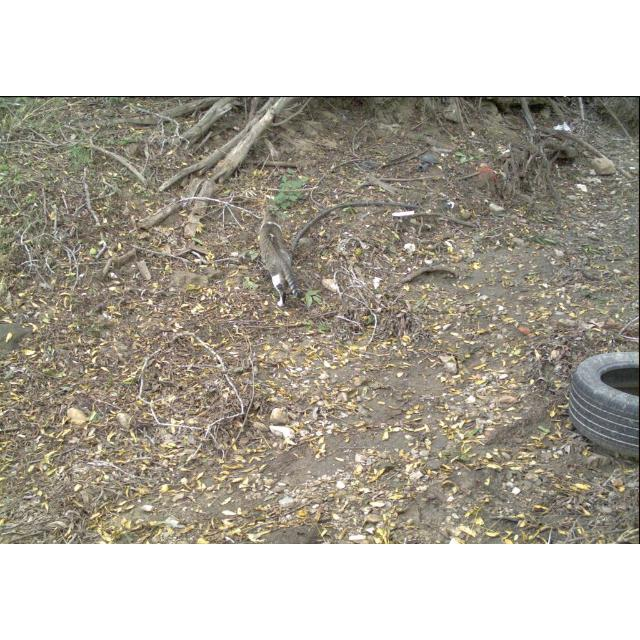animals: (254, 206, 302, 308)
